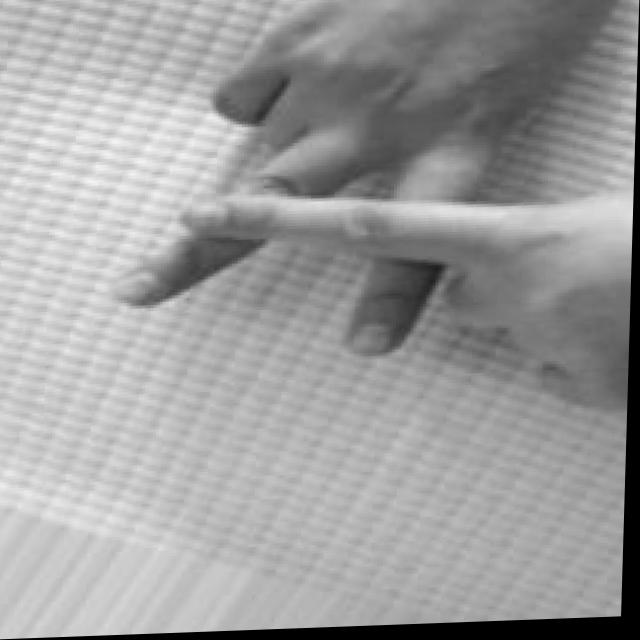A: (105, 0, 640, 440)
